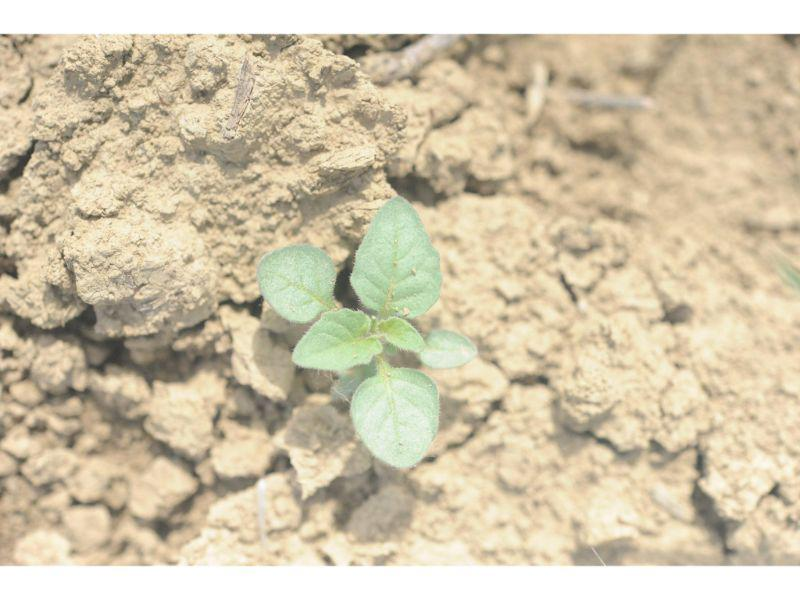nightshade: (259, 192, 479, 471)
